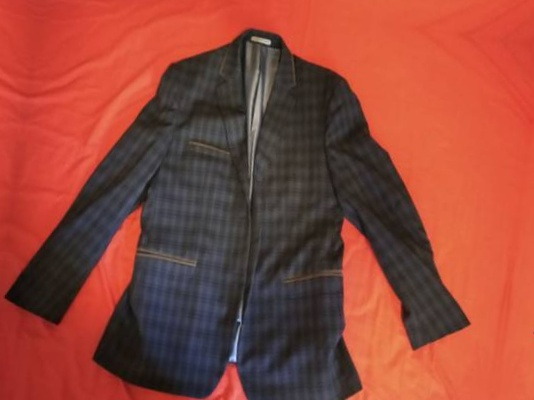Blazer: (0, 0, 492, 400), (0, 0, 36, 369), (53, 0, 534, 24)
